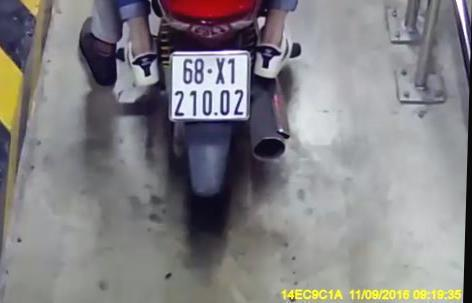License_Plate: (163, 49, 260, 128)
